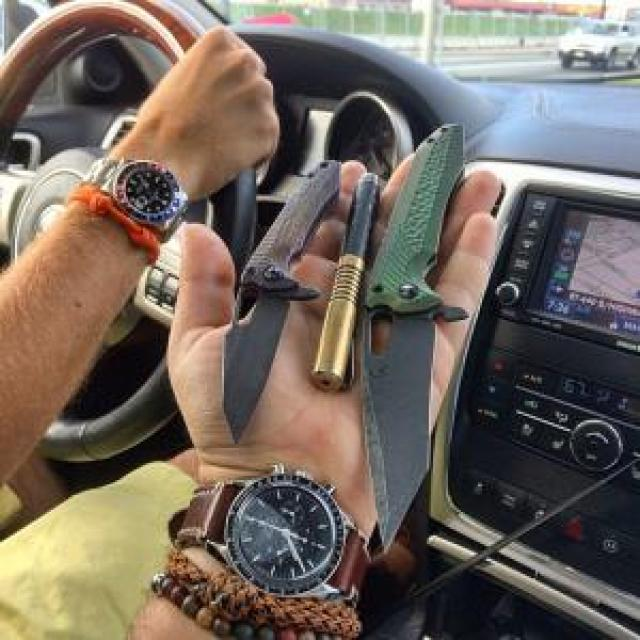knife: (361, 119, 472, 573), (220, 160, 348, 435)
